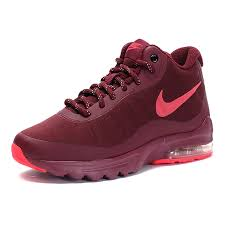nike: (155, 80, 203, 119)
